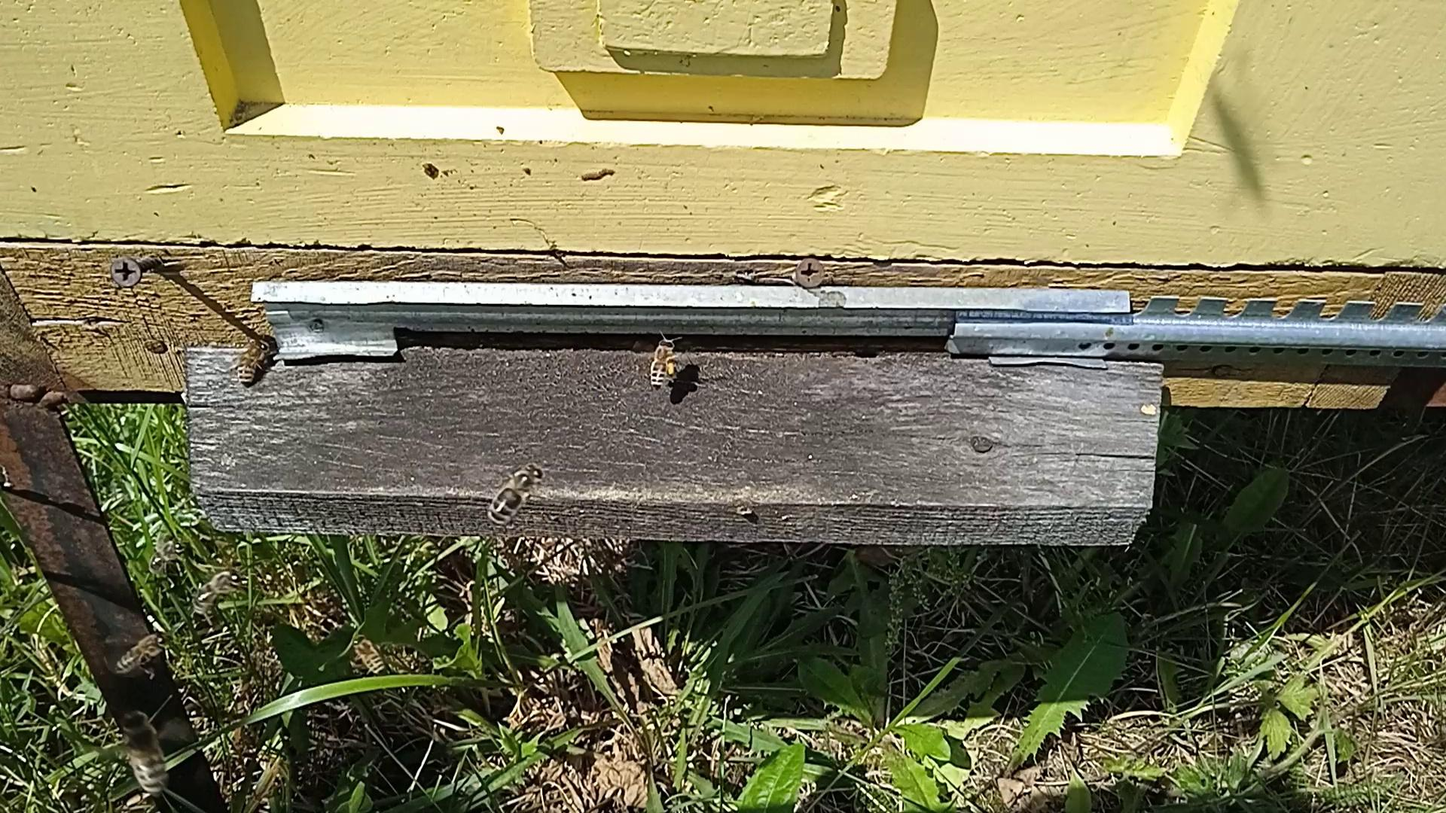worker-bee: (120, 711, 170, 797), (487, 463, 544, 526), (194, 568, 244, 612), (114, 632, 166, 674), (233, 336, 271, 386), (648, 338, 681, 390), (351, 634, 385, 676), (149, 539, 189, 572)
